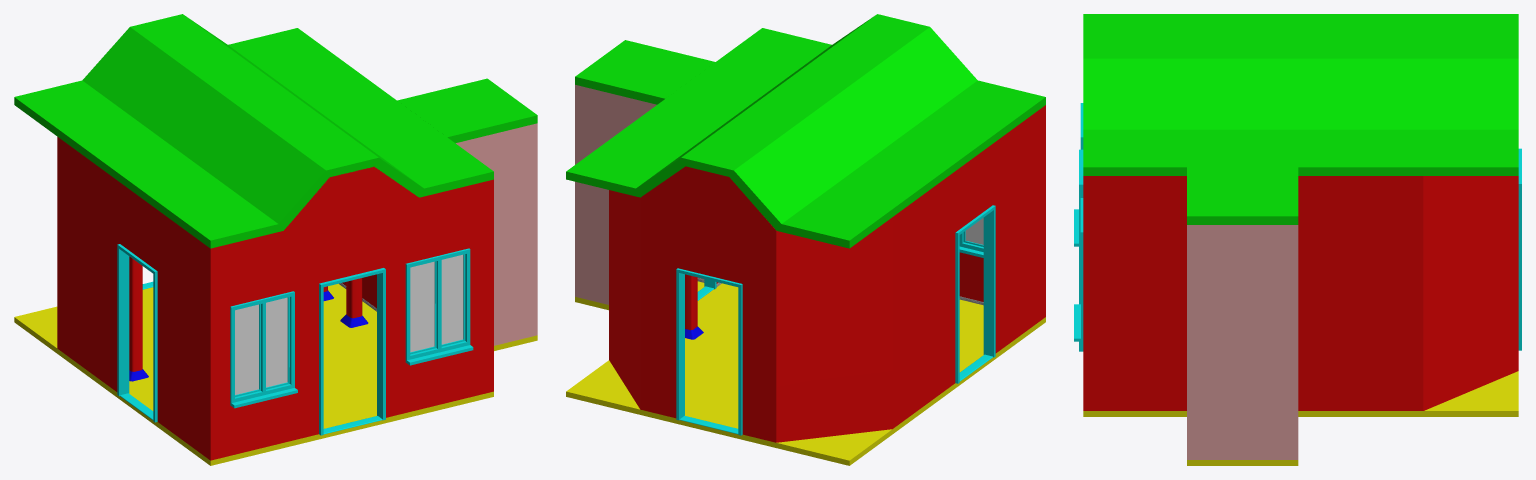
Rendered from FloorPlan502_physics.fbx.
The picture shows the model from 3 angles, left to right: view 1: azimuth 30°, elevation 25°; view 2: azimuth 150°, elevation 25°; view 3: azimuth 270°, elevation 25°; orthographic projection. The views are drawn at different scales.
Visible parts, largest first — view 1: FP502:Walls_1, FP502:Ceiling_1, FP502:Floor_1, FP502:Walls_2, FP502:Ceiling_2, FP502:WindowPane_2, FP502:WindowPane_1, FP502:WindowFrame_2, FP502:WindowFrame_1, FP502:DoorFrame_4, FP502:DoorFrame_1, FP502:Pillar_1 (+1 smaller); view 2: FP502:Walls_1, FP502:Ceiling_1, FP502:Floor_1, FP502:Walls_2, FP502:Ceiling_2, FP502:DoorFrame_4, FP502:DoorFrame_3, FP502:Walls_6; view 3: FP502:Walls_1, FP502:Ceiling_1, FP502:Walls_2, FP502:Ceiling_2, FP502:Floor_1, FP502:DoorFrame_3, FP502:WindowFrame_2, FP502:Floor_2, FP502:DoorFrame_1.
Boxes of the visible parts, box(x1,y1,x2,y2) form: FP502:Walls_1: box(57, 137, 493, 460); FP502:Ceiling_1: box(14, 14, 493, 248); FP502:Floor_1: box(14, 283, 493, 465); FP502:Walls_2: box(456, 123, 537, 345); FP502:Ceiling_2: box(397, 78, 537, 143); FP502:WindowPane_2: box(410, 254, 463, 352); FP502:WindowPane_1: box(235, 297, 287, 394); FP502:WindowFrame_2: box(405, 248, 473, 365); FP502:WindowFrame_1: box(230, 291, 297, 408); FP502:DoorFrame_4: box(117, 244, 157, 422); FP502:DoorFrame_1: box(319, 268, 385, 435); FP502:Pillar_1: box(129, 256, 148, 381); FP502:Walls_1: box(609, 105, 1045, 442); FP502:Ceiling_1: box(566, 14, 1045, 248); FP502:Floor_1: box(566, 283, 1045, 465); FP502:Walls_2: box(575, 85, 704, 304); FP502:Ceiling_2: box(575, 40, 715, 104); FP502:DoorFrame_4: box(955, 205, 995, 383); FP502:DoorFrame_3: box(676, 268, 742, 435); FP502:Walls_6: box(685, 274, 703, 339); FP502:Walls_1: box(1083, 176, 1518, 410); FP502:Ceiling_1: box(1083, 14, 1518, 175); FP502:Walls_2: box(1187, 225, 1298, 459); FP502:Ceiling_2: box(1187, 167, 1298, 224); FP502:Floor_1: box(1083, 371, 1518, 416); FP502:DoorFrame_3: box(1518, 148, 1521, 350); FP502:WindowFrame_2: box(1074, 198, 1083, 341); FP502:Floor_2: box(1187, 460, 1298, 465); FP502:DoorFrame_1: box(1079, 149, 1083, 351).
Bounding box in the file's own units: 539 × 366 × 501.
